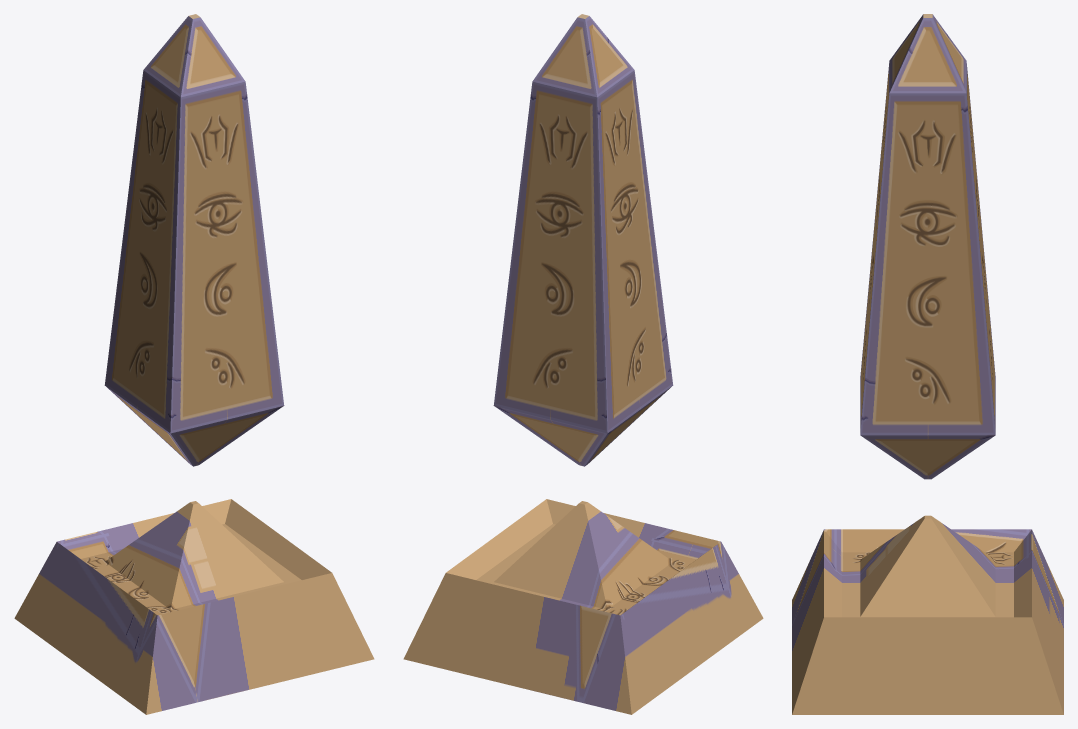
File: Floating_Obelisk.FBX
3 renders of one model, left to right at view 1: azimuth 30°, elevation 25°; view 2: azimuth 150°, elevation 25°; view 3: azimuth 270°, elevation 25°, orthographic. The views are drawn at different scales.
Parts seen in each view (by area): view 1: Obelisk, FloatingObelisk; view 2: Obelisk, FloatingObelisk; view 3: FloatingObelisk, Obelisk.
Boxes of the visible parts, x1,y1,x2,y2 form: Obelisk: (104, 14, 284, 466); FloatingObelisk: (14, 499, 374, 714); Obelisk: (493, 14, 673, 466); FloatingObelisk: (403, 499, 763, 714); FloatingObelisk: (792, 515, 1063, 714); Obelisk: (860, 14, 995, 479).
Bounding box in the file's own units: 1.5 × 3.91 × 1.5.
